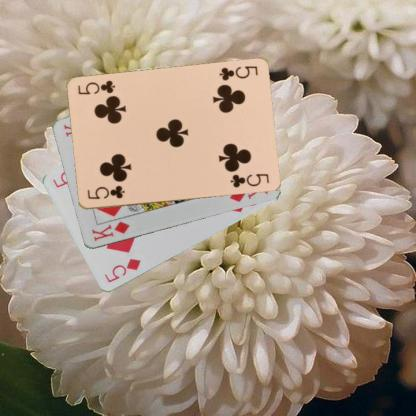5c: (84, 183, 126, 201), (217, 64, 259, 82)
5d: (102, 256, 142, 284)
Kd: (89, 219, 131, 243)
